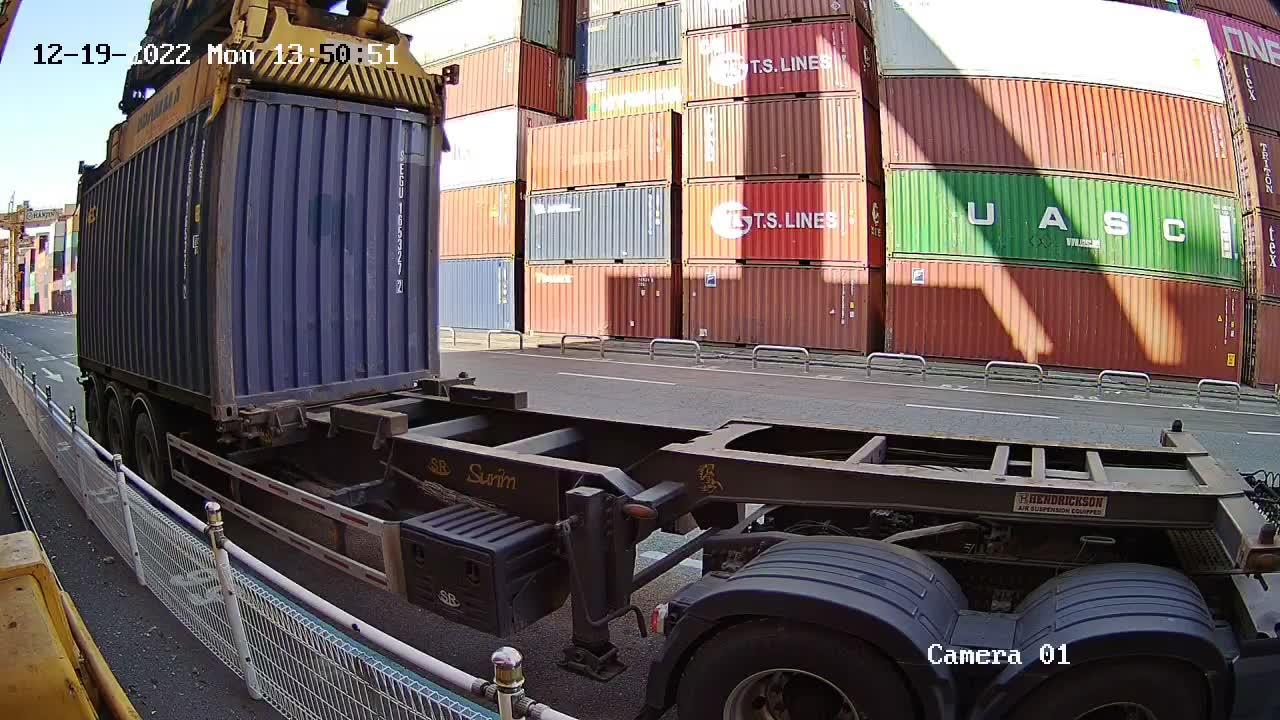Cone: (216, 421, 237, 446)
Hole_L: (221, 389, 257, 418)
Hole_R: (198, 388, 221, 419)
Tire: (133, 418, 159, 485), (105, 399, 124, 455), (87, 388, 99, 439)
